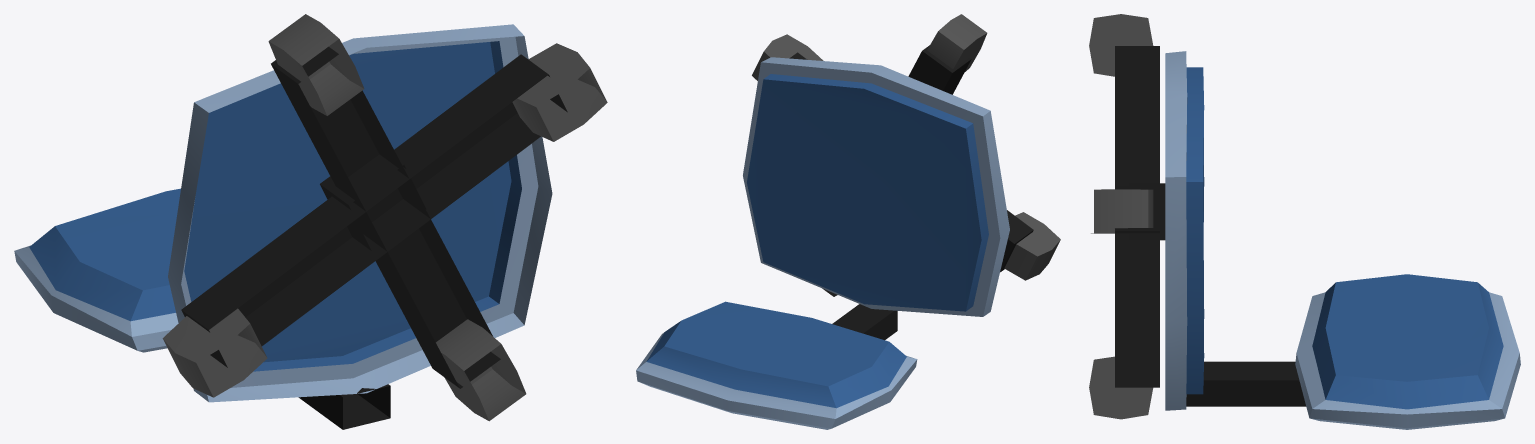
Rendered from Chair 01.FBX.
3 renders of one model, left to right at view 1: azimuth 30°, elevation 25°; view 2: azimuth 150°, elevation 25°; view 3: azimuth 270°, elevation 25°, orthographic. The views are drawn at different scales.
Parts seen in each view (by area): view 1: Chair 01; view 2: Chair 01; view 3: Chair 01.
Boxes of the visible parts, x1,y1,x2,y2 form: Chair 01: (14, 14, 607, 429); Chair 01: (636, 14, 1060, 429); Chair 01: (1089, 14, 1520, 429).
Bounding box in the file's own units: 91.22 × 91.29 × 101.
1 material, 1 textured.
